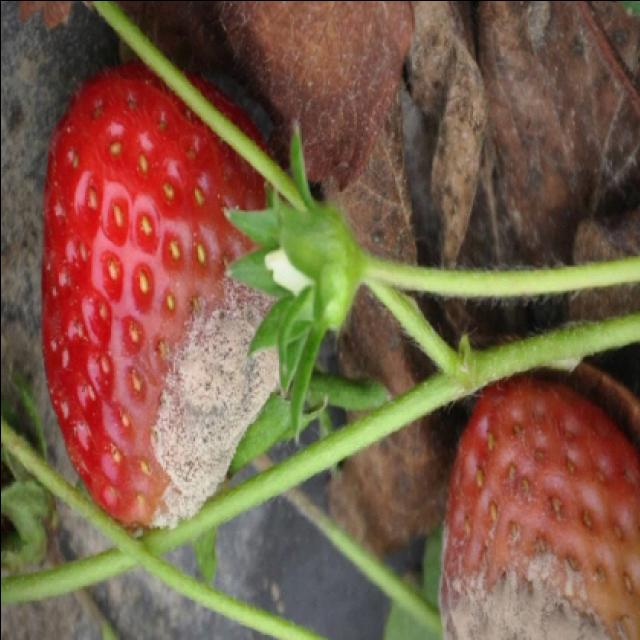Gray Mold: (121, 171, 283, 531)
